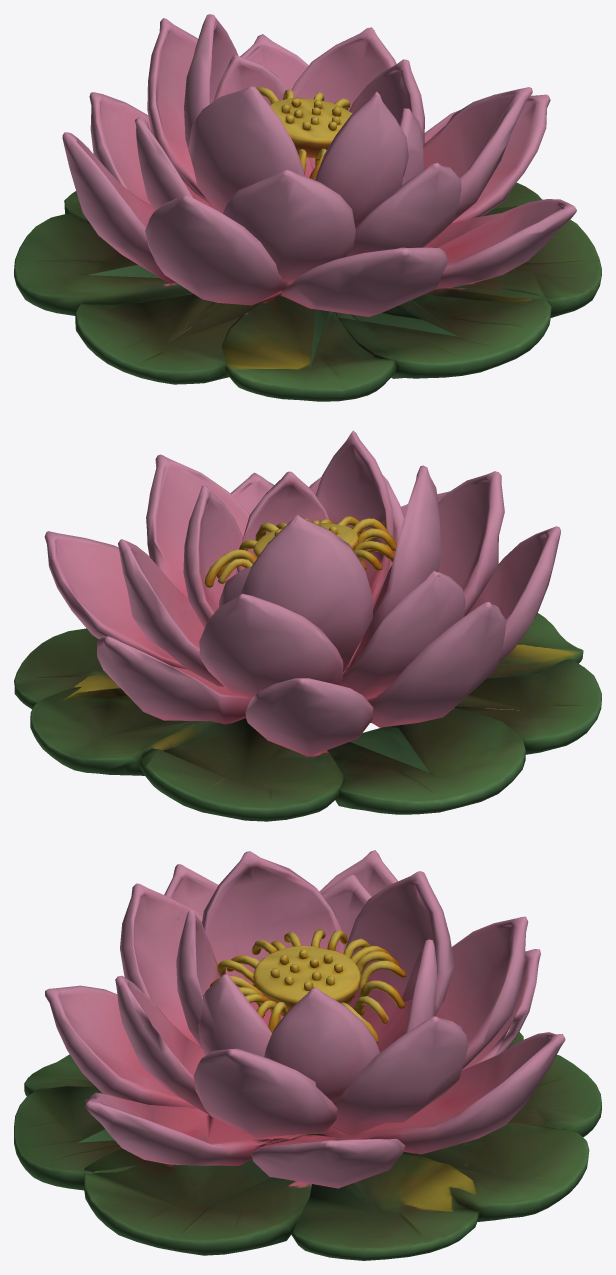
Rendered from r33-lotus.glb.
3 views of the same model, one above another, from view 1: azimuth 30°, elevation 25°; view 2: azimuth 150°, elevation 25°; view 3: azimuth 270°, elevation 25° (orthographic). The views are drawn at different scales.
Parts seen in each view (by area): view 1: tripo_node_f719b35c-2ecd-4994-94ed-e6a07fdd1fae; view 2: tripo_node_f719b35c-2ecd-4994-94ed-e6a07fdd1fae; view 3: tripo_node_f719b35c-2ecd-4994-94ed-e6a07fdd1fae.
Part boxes in pixels (x1,y1,x2,y2): tripo_node_f719b35c-2ecd-4994-94ed-e6a07fdd1fae: (14,14,601,401); tripo_node_f719b35c-2ecd-4994-94ed-e6a07fdd1fae: (14,430,601,821); tripo_node_f719b35c-2ecd-4994-94ed-e6a07fdd1fae: (14,850,601,1260).
Size of the model in its own units: 0.998 by 0.4902 by 0.998.
Materials: 1 (1 with a texture image).
